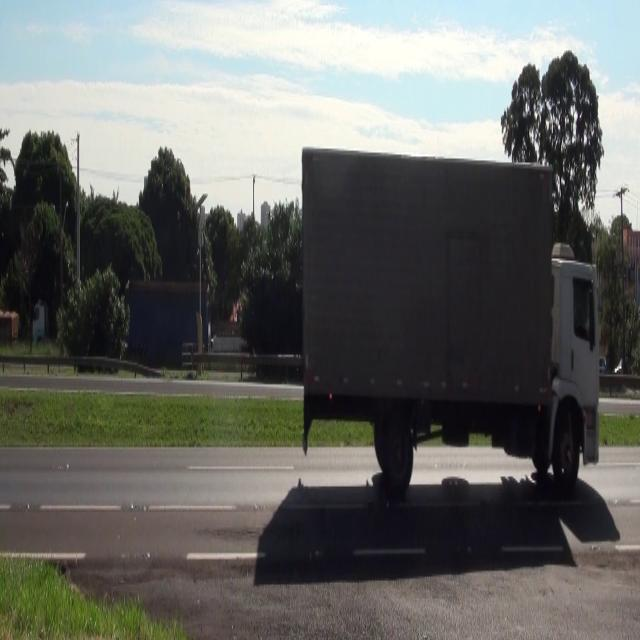-axle: (383, 402, 416, 498), (555, 411, 585, 495)
